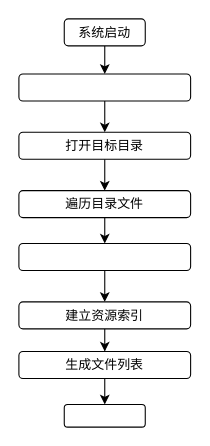
The diagram is 210 pixels wide and 446 high, and some of its shapes have lost their labels. Each missing label, with the centre of its shape:
"判断文件类型" goes at (104,256).
"挂载SD卡文件系统" goes at (104,87).
"返回" goes at (104,415).
